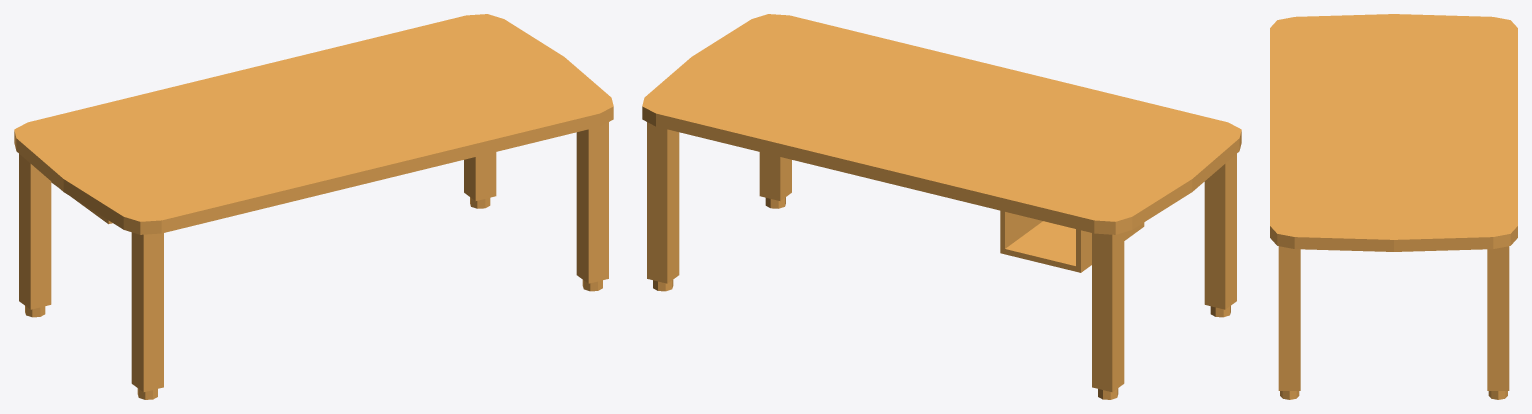
The model's file is table.fbx.
3 views of the same model, side by side, from view 1: azimuth 30°, elevation 25°; view 2: azimuth 150°, elevation 25°; view 3: azimuth 270°, elevation 25° (orthographic). The views are drawn at different scales.
Visible parts, largest first — view 1: table; view 2: table; view 3: table.
Boxes of the visible parts, left/top/right/bottom form: table: left=14, top=14, right=613, bottom=399; table: left=642, top=14, right=1241, bottom=399; table: left=1270, top=14, right=1517, bottom=399.
Bounding box in the file's own units: 2.43 × 0.8455 × 1.13.
